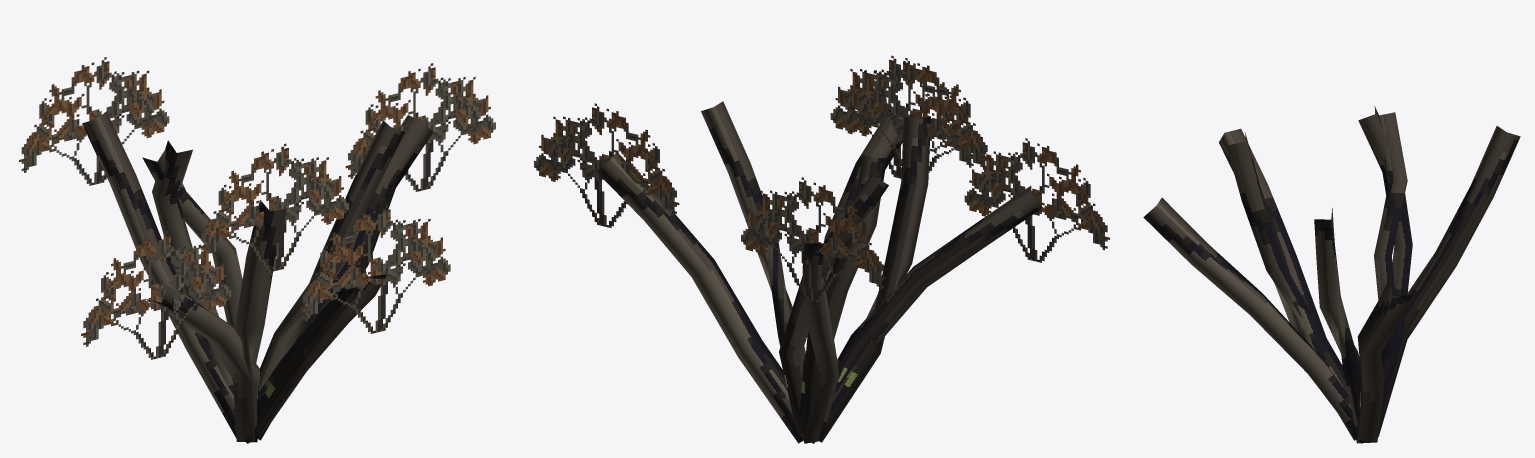
Rendered from CORR_Dead_Shrub.glb.
The picture shows the model from 3 angles, left to right: view 1: azimuth 30°, elevation 25°; view 2: azimuth 150°, elevation 25°; view 3: azimuth 270°, elevation 25°; orthographic projection. The views are drawn at different scales.
Visible parts, largest first — view 1: CORR_Dead_Shrub_Mesh; view 2: CORR_Dead_Shrub_Mesh; view 3: CORR_Dead_Shrub_Mesh.
Boxes of the visible parts, left/top/right/bottom form: CORR_Dead_Shrub_Mesh: left=19, top=57, right=495, bottom=443; CORR_Dead_Shrub_Mesh: left=534, top=55, right=1109, bottom=443; CORR_Dead_Shrub_Mesh: left=1143, top=106, right=1520, bottom=443.
Size of the model in its own units: 1.16 by 0.8145 by 0.7716.
2 materials, 2 textured.
